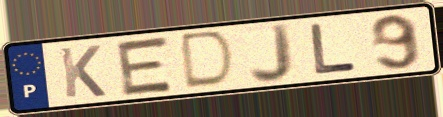9: (368, 12, 422, 71)
D: (180, 29, 238, 92)
E: (114, 34, 178, 98)
J: (247, 22, 296, 85)
K: (57, 43, 109, 100)
L: (308, 21, 360, 77)
